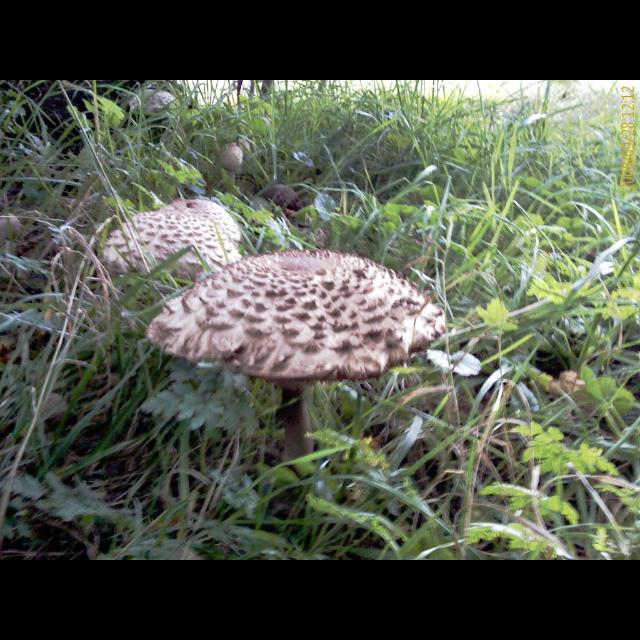Flower: (424, 344, 482, 374)
